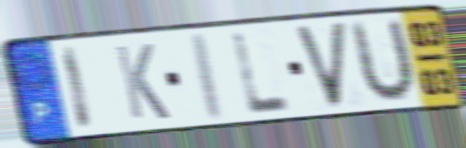I: (191, 30, 227, 125), (60, 44, 97, 132)
K: (112, 42, 173, 123)
L: (230, 29, 295, 117)
U: (349, 15, 418, 107)
V: (291, 18, 349, 112)
